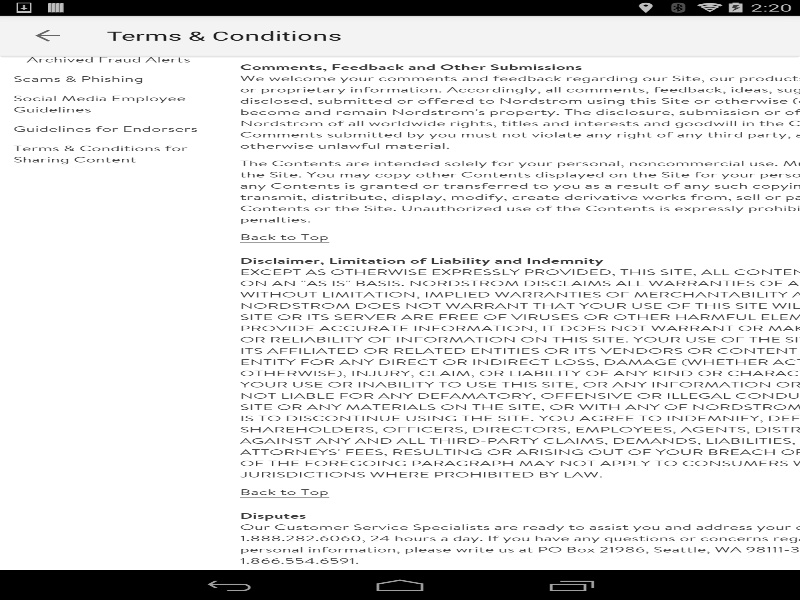Button: (10, 15, 85, 55)
